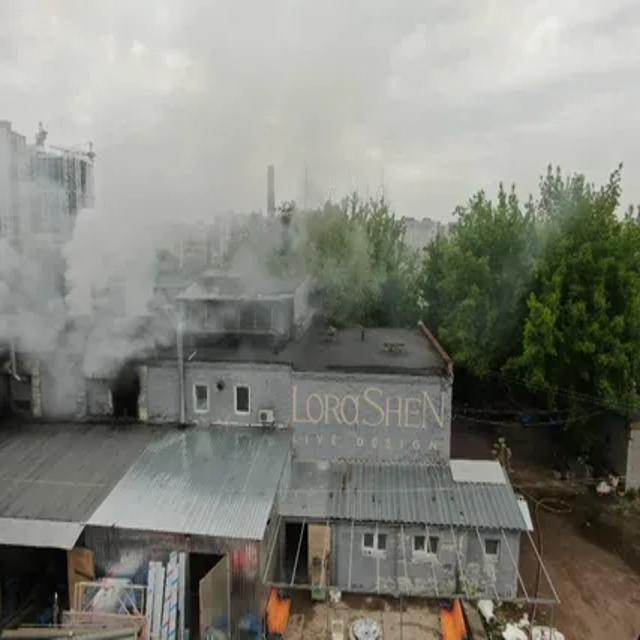Smoke: (0, 0, 202, 385)
